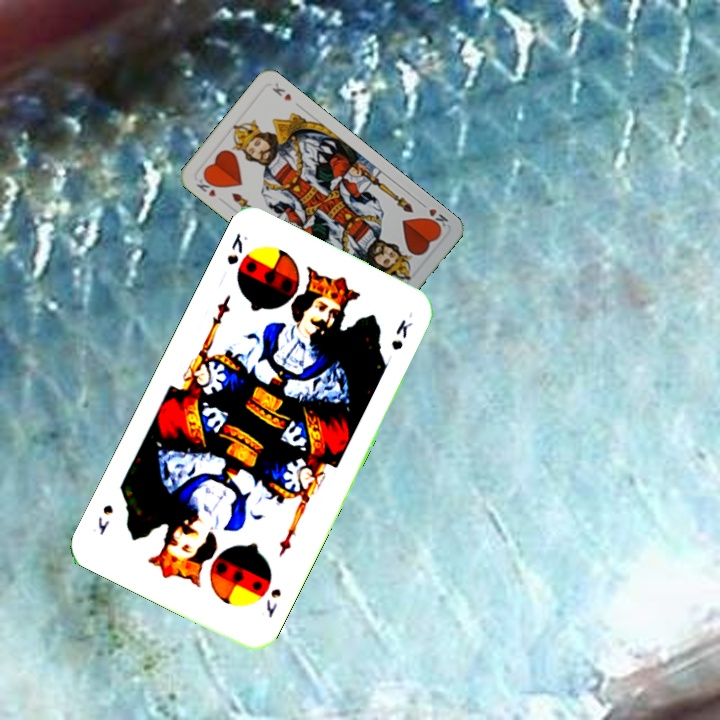HK: (416, 198, 451, 233), (192, 172, 220, 199)
SK: (222, 228, 251, 268), (262, 584, 284, 620)
